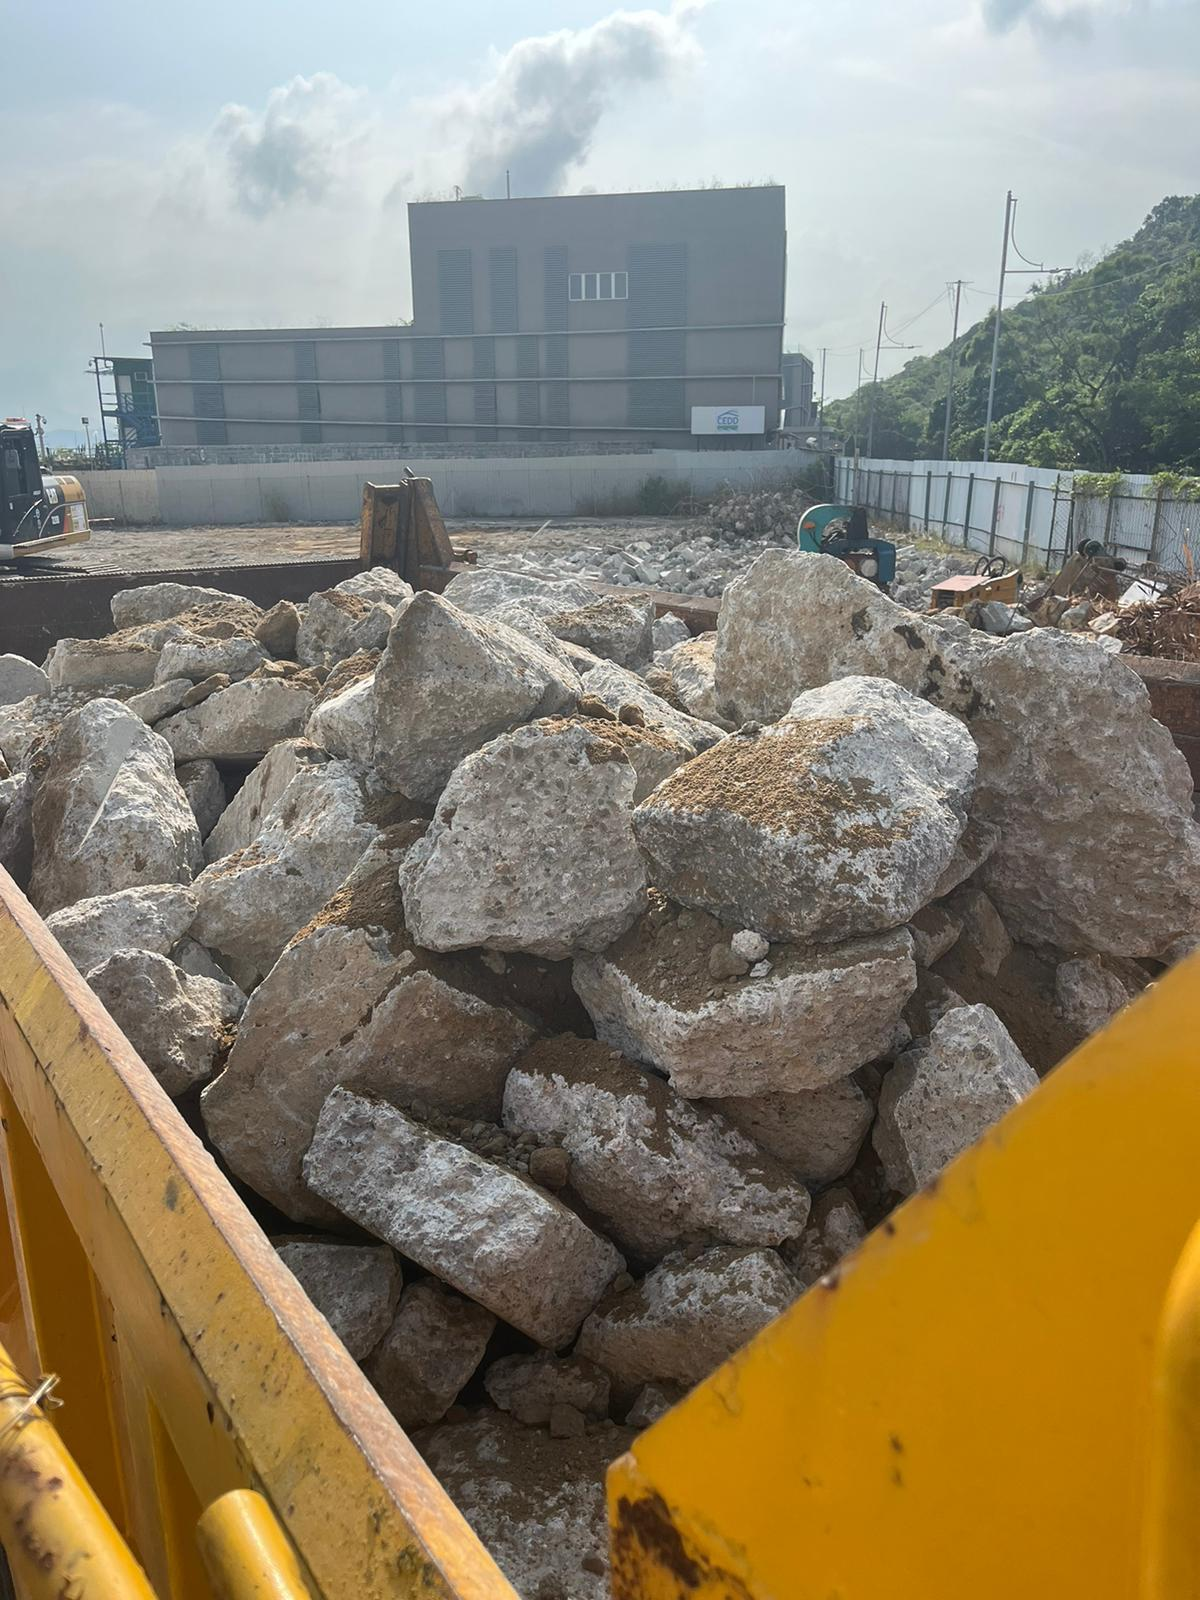dry: (5, 542, 1188, 1402)
